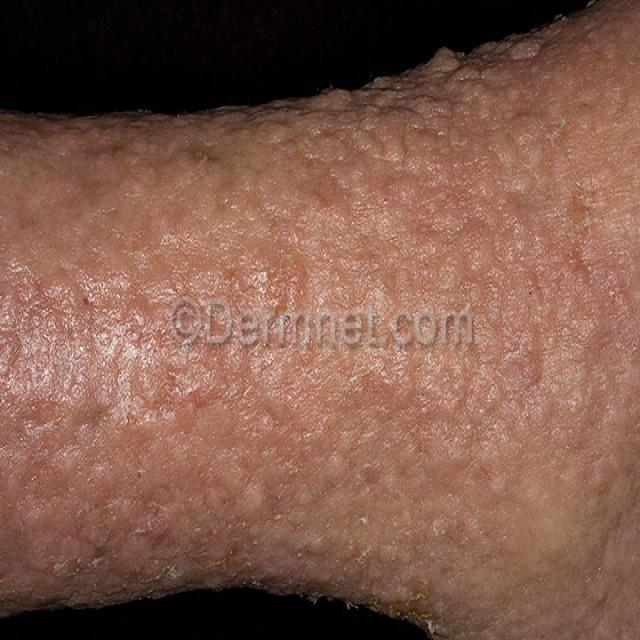Eczema: (0, 39, 586, 623)
